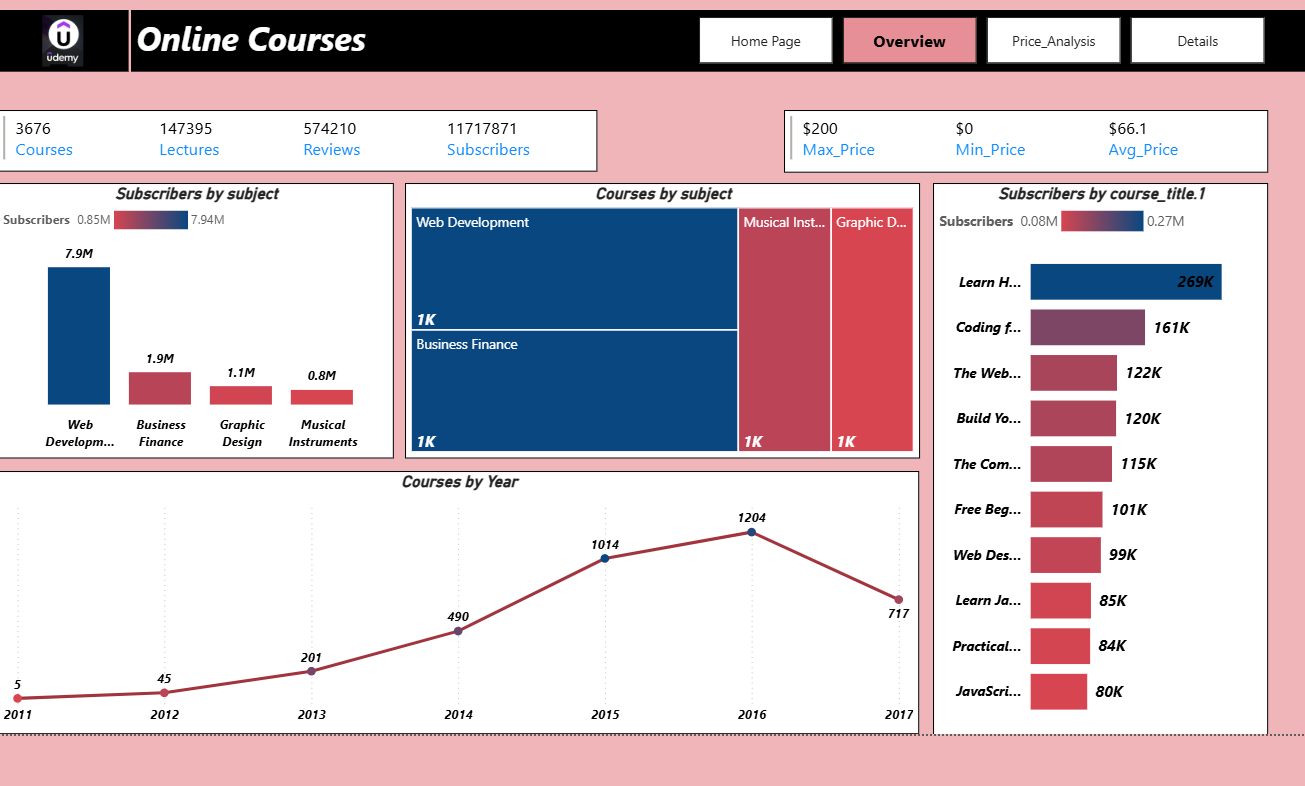

What the dashboard file says about the page in this screenshot:
{"tool":"powerbi","page":{"name":"Overview","canvas":[1280,720],"ordinal":1},"visuals":[{"type":"textbox","box":[137.8,15.4,1142.6,59.8],"z":0},{"type":"multiRowCard","fields":{"Values":["udemy.Courses","udemy.Lectures","udemy.Reviews","udemy.Subscribers"]},"box":[7.8,112.8,583.6,60.3],"z":1000},{"type":"multiRowCard","fields":{"Values":["udemy.Max_Price","udemy.Min_Price","udemy.Average_Price"]},"box":[773.5,112.4,470.6,60.8],"z":2000},{"type":"image","box":[8.2,15.4,127.9,59.8],"z":3000},{"type":"columnChart","fields":{"Category":["udemy.subject"],"Y":["udemy.Subscribers"]},"box":[8.2,184.1,386.3,267.5],"z":4000},{"type":"treemap","fields":{"Values":["udemy.Courses"],"Group":["udemy.subject","udemy.level"]},"box":[404.4,184.1,500.6,267.5],"z":5000},{"type":"lineChart","fields":{"Y":["udemy.Courses"],"Category":["udemy.published_timestamp.Variation.Date Hierarchy.Year"]},"box":[7.8,464.1,897.1,256.3],"z":6000},{"type":"barChart","fields":{"Y":["udemy.Subscribers"],"Category":["udemy.course_title.1"]},"box":[918.4,183.5,326.2,536.9],"z":7000},{"type":"pageNavigator","box":[690.6,22.4,553.4,45.7],"z":8000}]}

Visuals, with their boxes on the page's 1280x720 design canvas (x1, y1, x2, y2). These are canvas units, not pixel positions in the 1305x786 screenshot, which may show the page scaled, cropped or inside an application window:
textbox: [left=138, top=15, right=1280, bottom=75]
multiRowCard - udemy.Courses x udemy.Lectures: [left=8, top=113, right=591, bottom=173]
multiRowCard - udemy.Max_Price x udemy.Min_Price: [left=774, top=112, right=1244, bottom=173]
image: [left=8, top=15, right=136, bottom=75]
columnChart - udemy.subject x udemy.Subscribers: [left=8, top=184, right=394, bottom=452]
treemap - udemy.Courses x udemy.subject: [left=404, top=184, right=905, bottom=452]
lineChart - udemy.Courses x udemy.published_timestamp.Variation.Date Hierarchy.Year: [left=8, top=464, right=905, bottom=720]
barChart - udemy.Subscribers x udemy.course_title.1: [left=918, top=184, right=1245, bottom=720]
pageNavigator: [left=691, top=22, right=1244, bottom=68]
